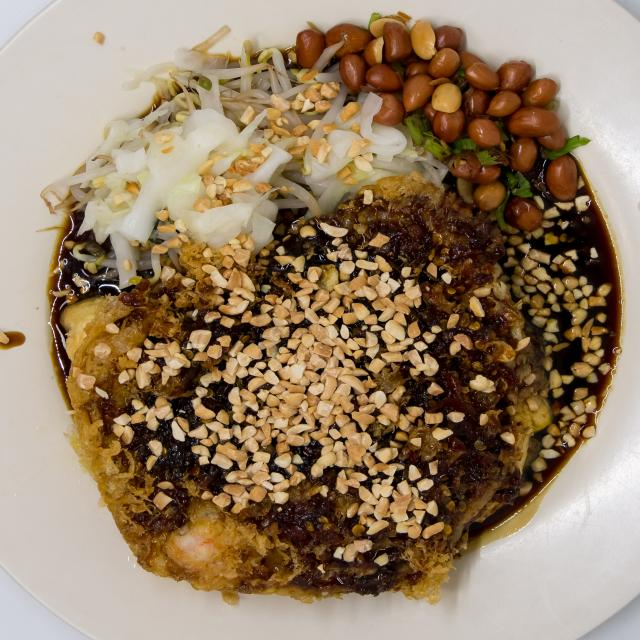Tahu-Telur: (53, 13, 614, 595)
